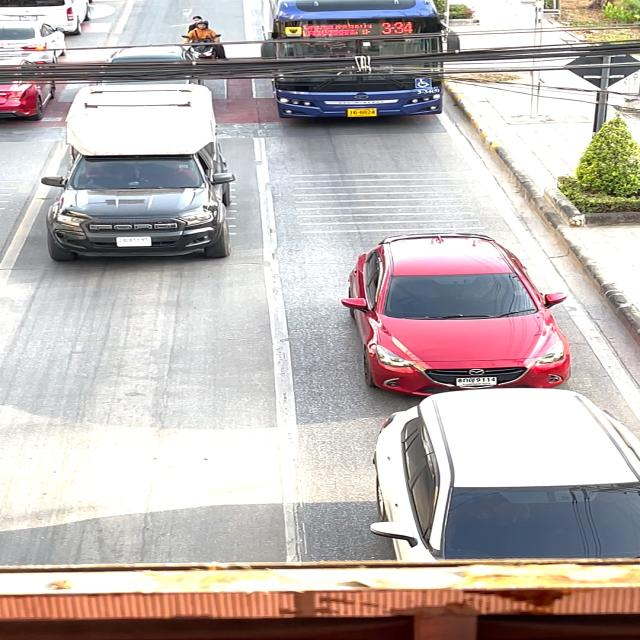car: (362, 384, 640, 559), (45, 62, 262, 282), (320, 222, 580, 396), (250, 0, 476, 141)
